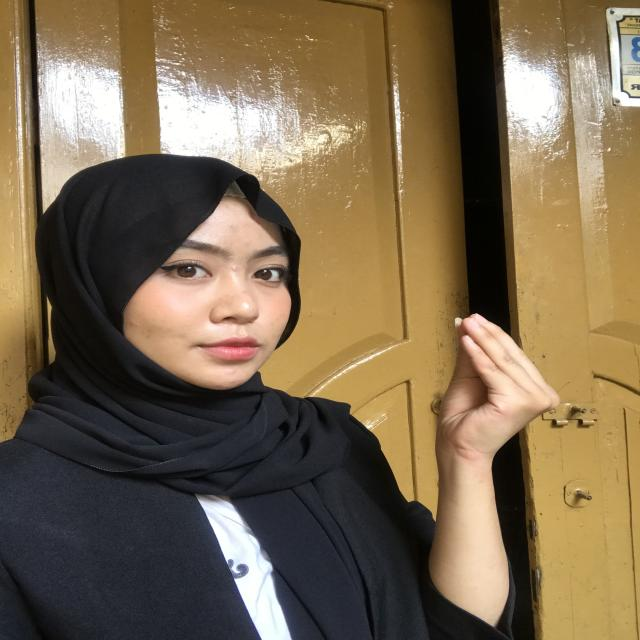kapan: (372, 294, 590, 481)
